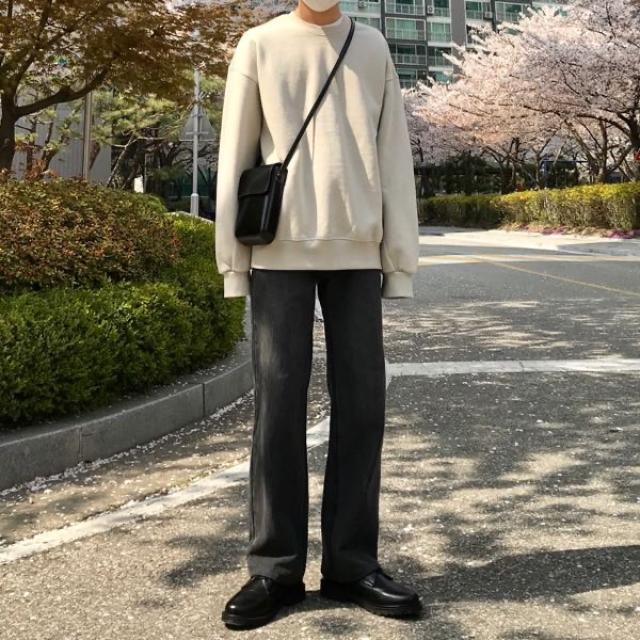denimpants: (253, 266, 383, 578)
mtm: (214, 8, 419, 304)
